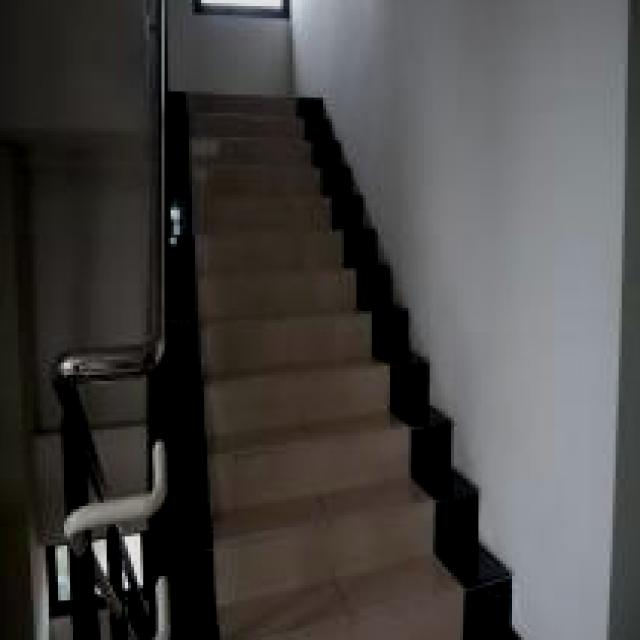upstair: (190, 74, 437, 640)
